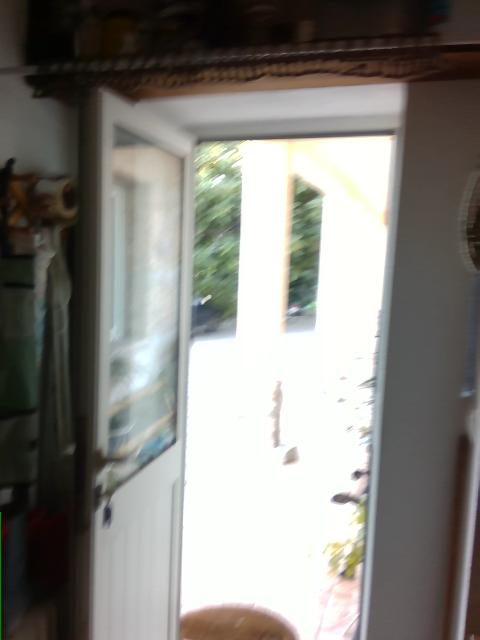door: (57, 87, 195, 640)
